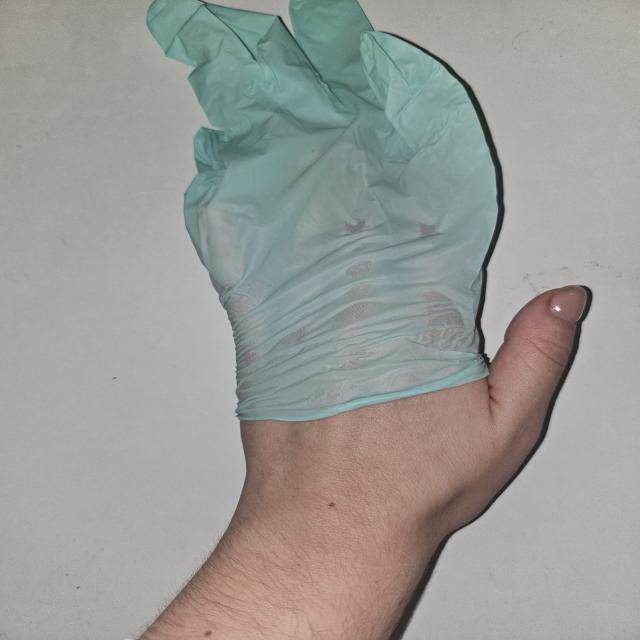glove_partial: (145, 0, 593, 526)
